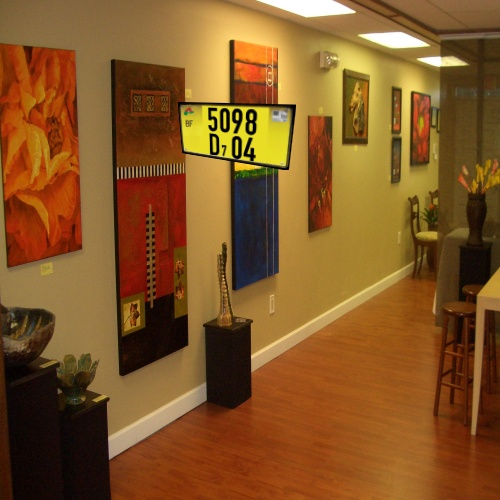plate: (169, 91, 306, 182)
